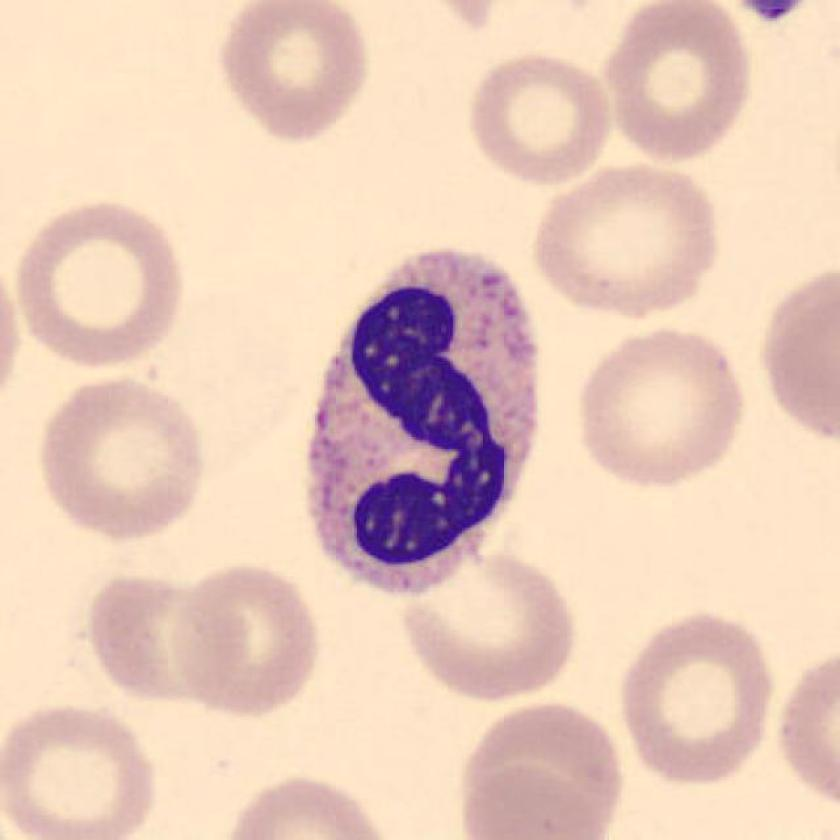neutrophil: (311, 251, 539, 592)
